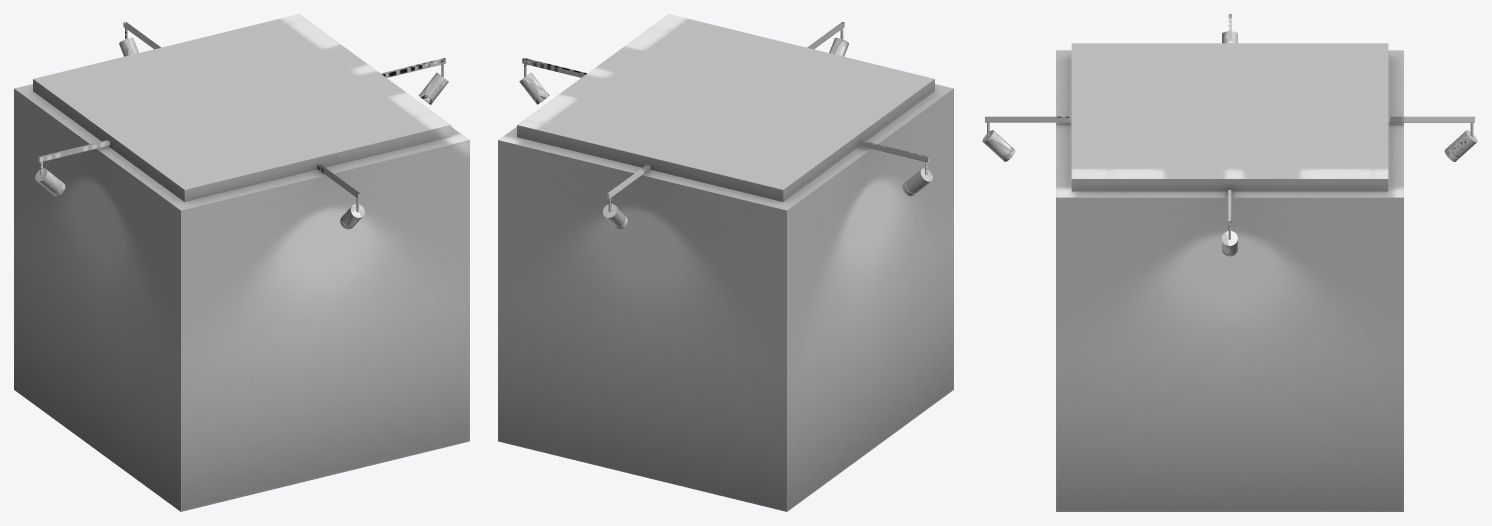
File: pillar.glb
The picture shows the model from 3 angles, left to right: view 1: azimuth 30°, elevation 25°; view 2: azimuth 150°, elevation 25°; view 3: azimuth 270°, elevation 25°; orthographic projection. The views are drawn at different scales.
Visible parts, largest first — view 1: polySurface401_lambert104_0; view 2: polySurface401_lambert104_0; view 3: polySurface401_lambert104_0.
Part boxes in pixels (x1,y1,x2,y2): polySurface401_lambert104_0: [14, 14, 469, 511]; polySurface401_lambert104_0: [498, 14, 953, 511]; polySurface401_lambert104_0: [982, 14, 1477, 511].
Size of the model in its own units: 1.41 by 1.03 by 1.41.
1 material, 1 textured.
